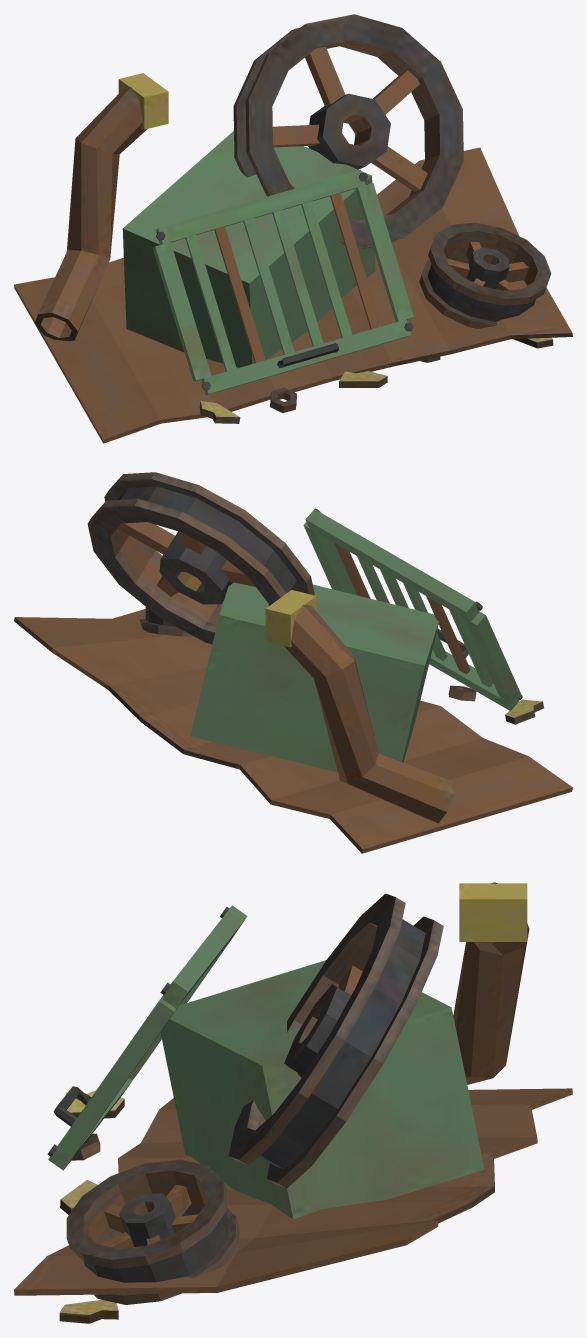
Rendered from JV24_scrap_metal_piles_v2.glb.
3 views of the same model, one above another, from view 1: azimuth 30°, elevation 25°; view 2: azimuth 150°, elevation 25°; view 3: azimuth 270°, elevation 25° (orthographic). The views are drawn at different scales.
Parts seen in each view (by area): view 1: Scrap Pile - Drive Parts; view 2: Scrap Pile - Drive Parts; view 3: Scrap Pile - Drive Parts.
Boxes of the visible parts, box(x1,y1,x2,y2) form: Scrap Pile - Drive Parts: box(14, 14, 572, 443); Scrap Pile - Drive Parts: box(14, 472, 572, 853); Scrap Pile - Drive Parts: box(14, 882, 572, 1323).
Bounding box in the file's own units: 1.5 × 0.9006 × 1.18.
5 materials, 5 textured.
